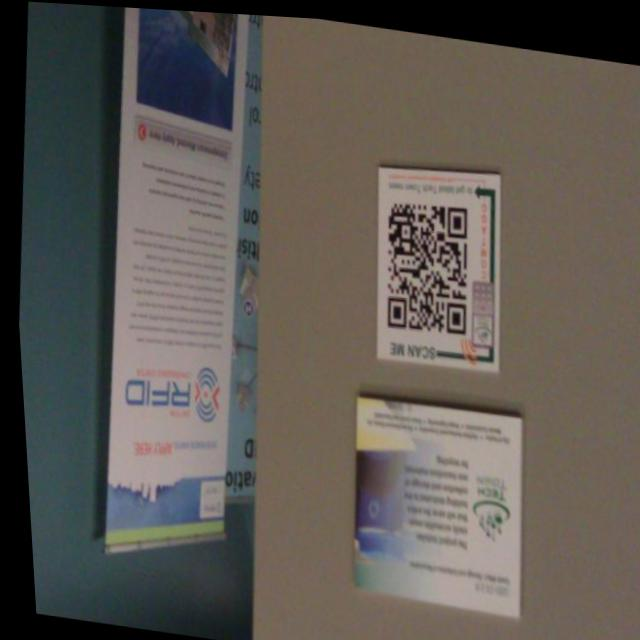qrcode: (376, 193, 472, 333)
